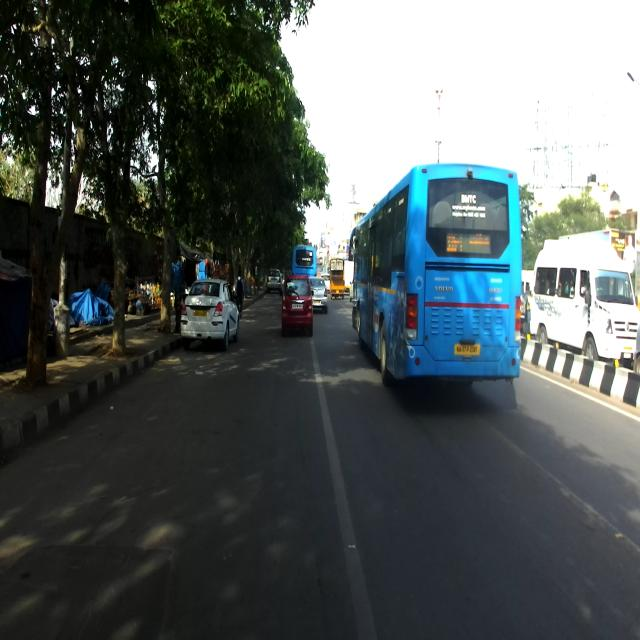bus ahead at: (355, 166, 524, 392)
car ahead at: (179, 273, 241, 353), (283, 274, 312, 338)
tree ahead at: (18, 125, 54, 386), (101, 164, 139, 363)
